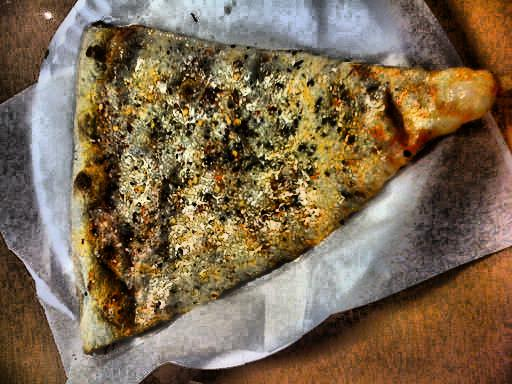pizza: (2, 29, 488, 334)
